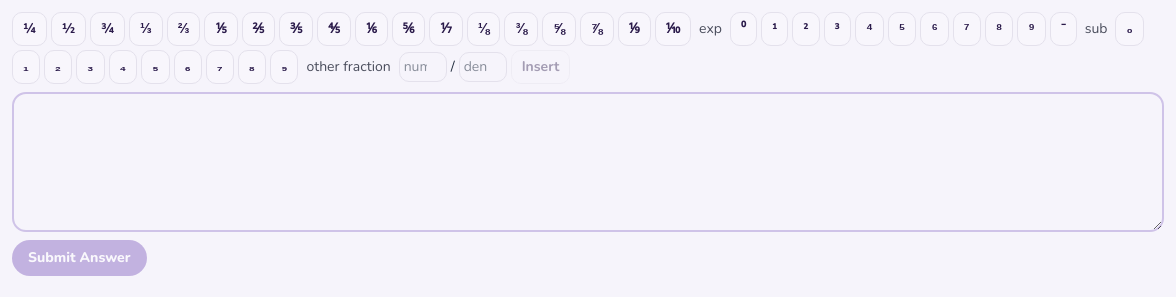
Test: FreeTextAnswerInput rejection states › shows a grading-in-progress state while the submission is in flight
Type "an answer" into the text box. click: coordinates (588, 162)
box: top-left (12, 92), bottom-right (1164, 232)
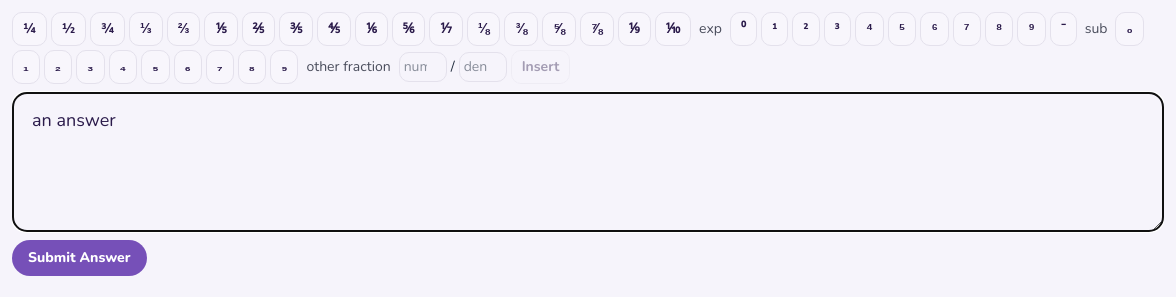
Click the button "Submit Answer". click: coordinates (79, 258)
box: top-left (12, 240), bottom-right (146, 276)
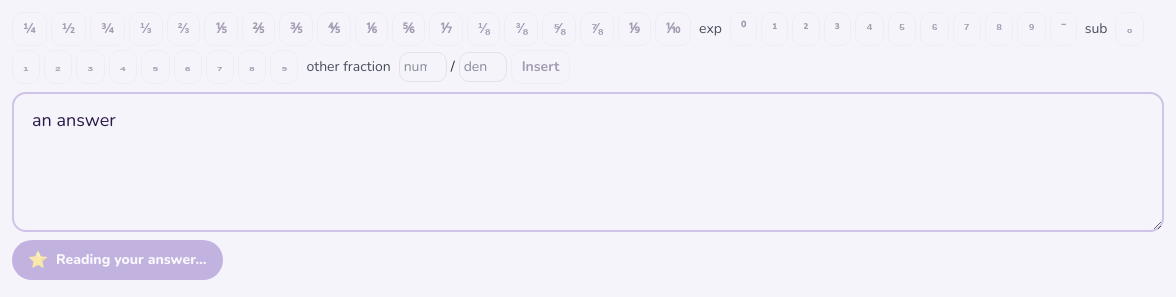
Expected: the element with test id "loading-indicator" is shown, top-left (28, 248), bottom-right (206, 272)
Expected: the button "⭐ Reading your answer…" is disabled, top-left (12, 240), bottom-right (222, 280)
